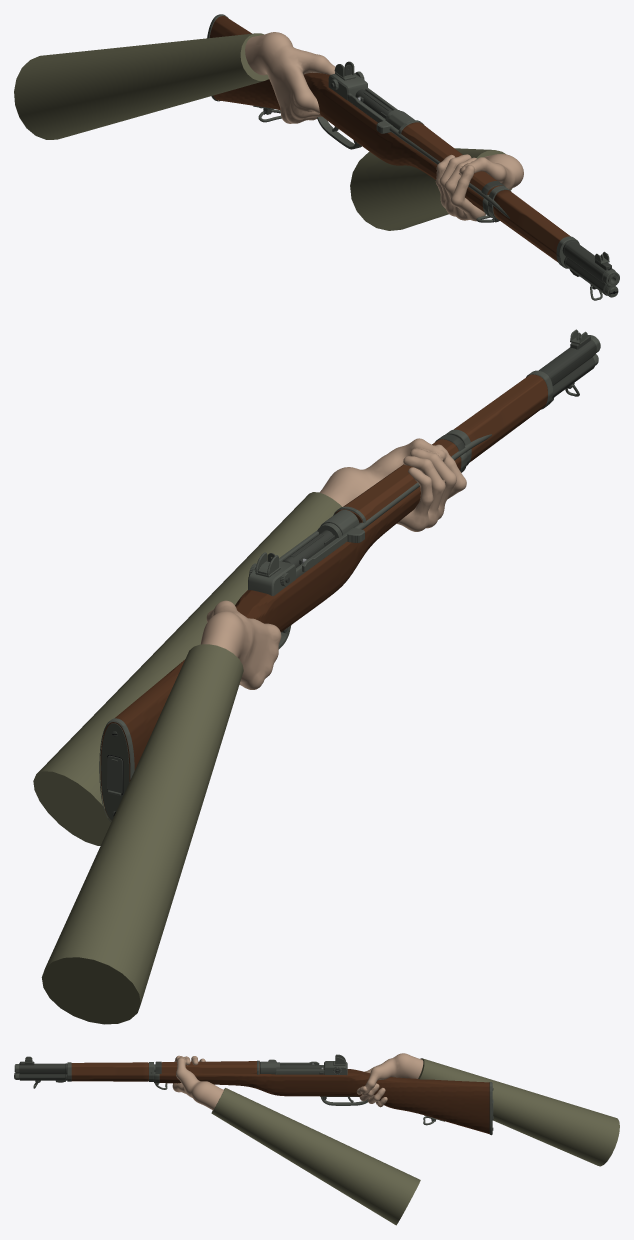
Rendered from m1-garand.glb.
3 renders of one model, top to bottom at view 1: azimuth 30°, elevation 25°; view 2: azimuth 150°, elevation 25°; view 3: azimuth 270°, elevation 25°, orthographic. The views are drawn at different scales.
Parts seen in each view (by area): view 1: view-sleeve-r, m1-garand-body, view-sleeve-l, hand-r, hand-l; view 2: view-sleeve-r, m1-garand-body, view-sleeve-l, hand-l, hand-r; view 3: m1-garand-body, view-sleeve-l, view-sleeve-r, hand-r, hand-l.
Part boxes in pixels (x1,y1,x2,y2): view-sleeve-r: [14, 33, 268, 139]; m1-garand-body: [207, 14, 619, 300]; view-sleeve-l: [350, 148, 512, 230]; hand-r: [245, 32, 335, 123]; hand-l: [435, 154, 523, 221]; view-sleeve-r: [41, 644, 243, 1024]; m1-garand-body: [99, 329, 600, 821]; view-sleeve-l: [33, 492, 341, 845]; hand-l: [319, 438, 466, 531]; hand-r: [200, 600, 281, 689]; m1-garand-body: [14, 1056, 493, 1135]; view-sleeve-l: [211, 1088, 420, 1225]; view-sleeve-r: [418, 1058, 619, 1166]; hand-r: [356, 1053, 423, 1107]; hand-l: [172, 1055, 223, 1110].
Size of the model in its own units: 0.4061 by 0.3508 by 1.4.
